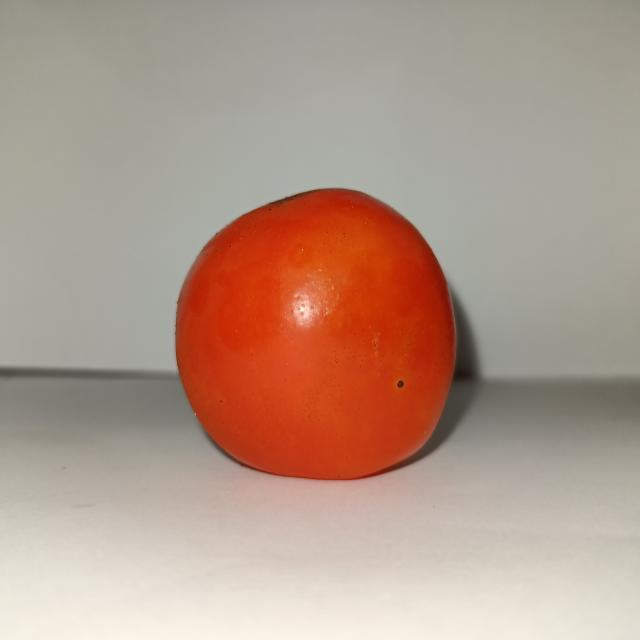Red: (173, 185, 458, 481)
